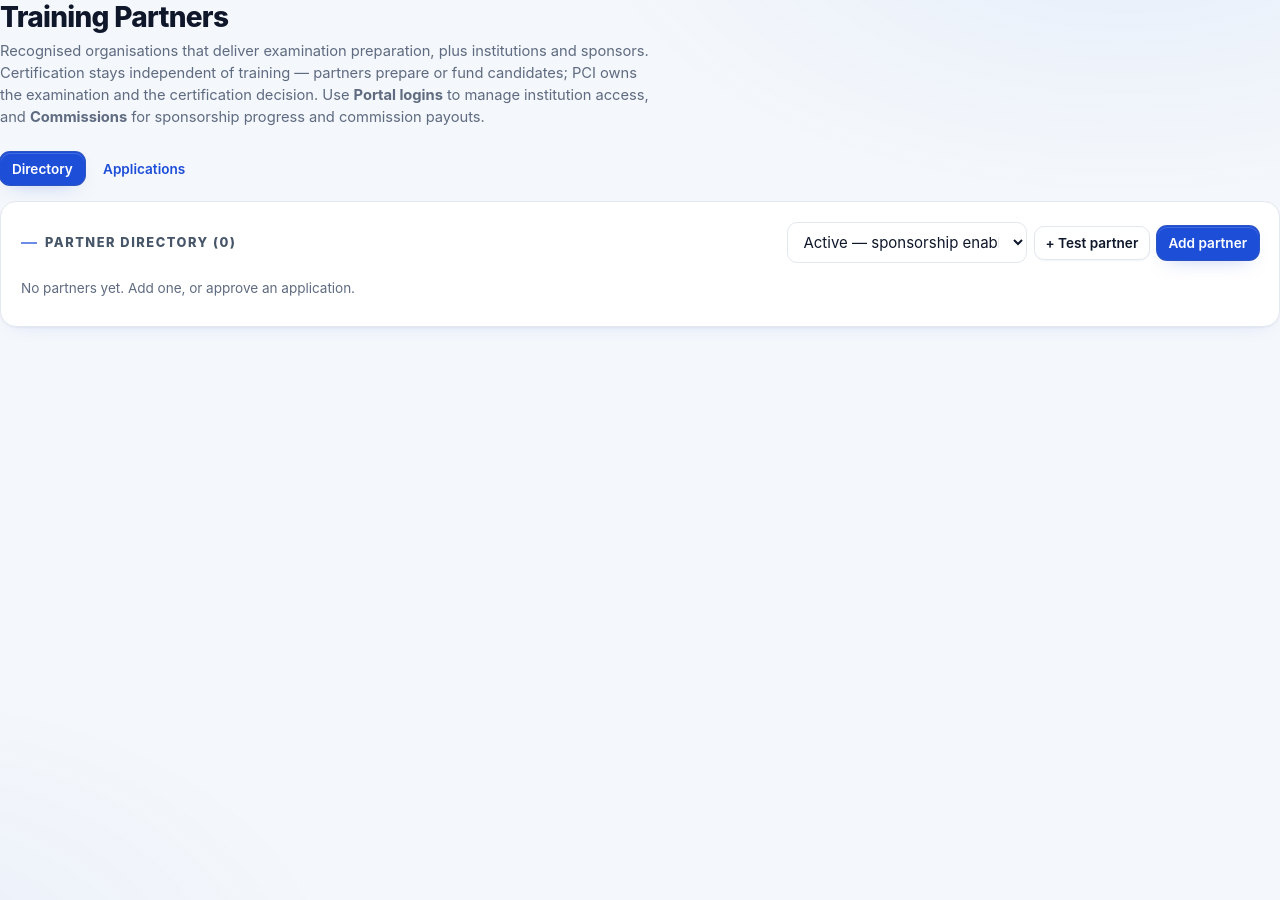
Test case: Admin Training Partners — test institutions › creates a scenario-based test partner and shows the dashboard hand-off
Select "Fresh login — must change password" in the dropdown named "Test-partner scenario" at (907, 243), box [787,222,1027,263]
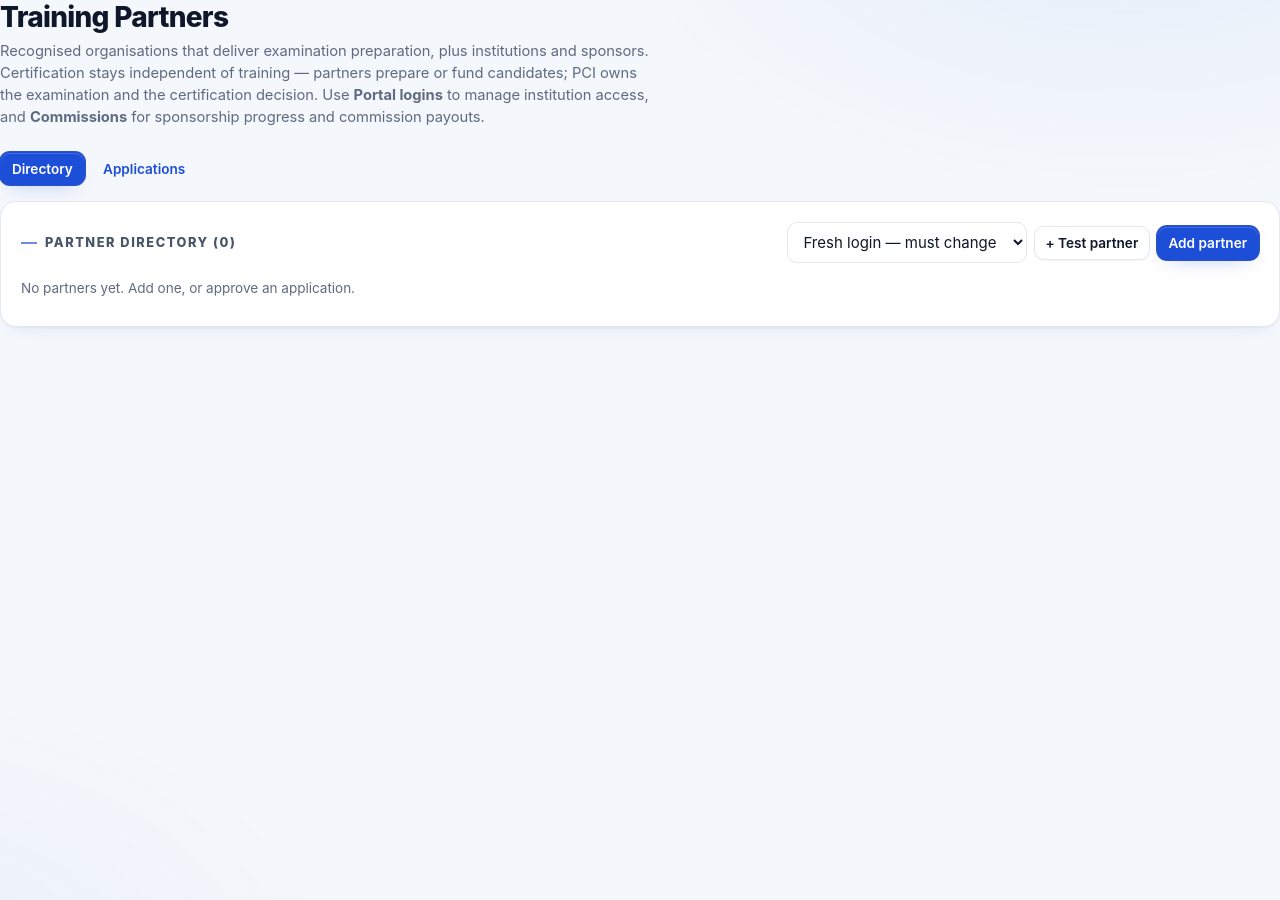
Click the button "+ Test partner" at (1092, 243), box [1034,226,1150,260]
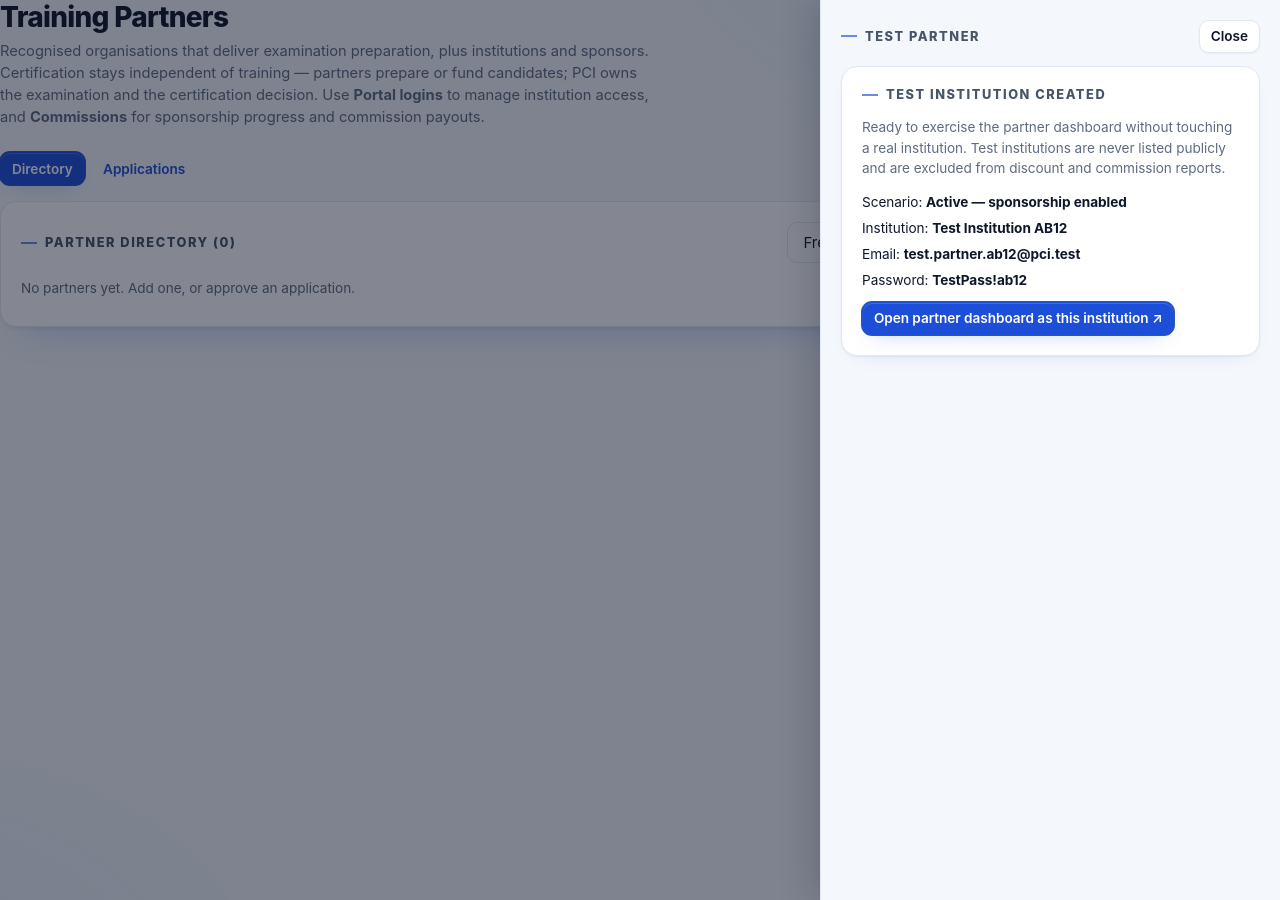
Expected: the heading "Test institution created" is shown, [862,87,1106,103]
Expected: the text "test.partner.ab12@pci.test" is shown, [904,246,1080,262]
Expected: the text "TestPass!ab12" is shown, [932,272,1027,288]
